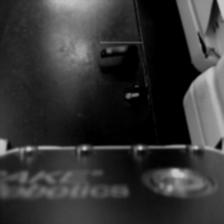Door Handle: (100, 42, 142, 71)
Lock: (125, 85, 148, 107)
